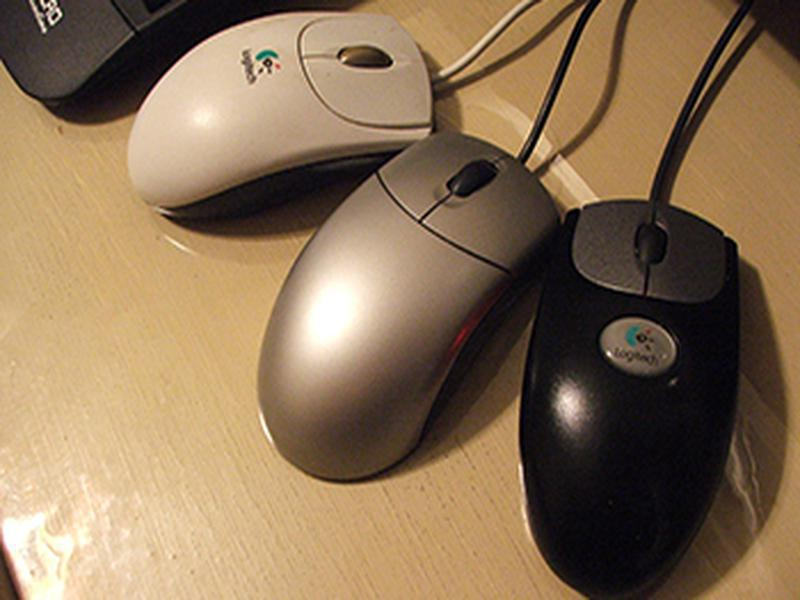mouse: (255, 128, 563, 487), (518, 197, 751, 600), (126, 10, 444, 221)
